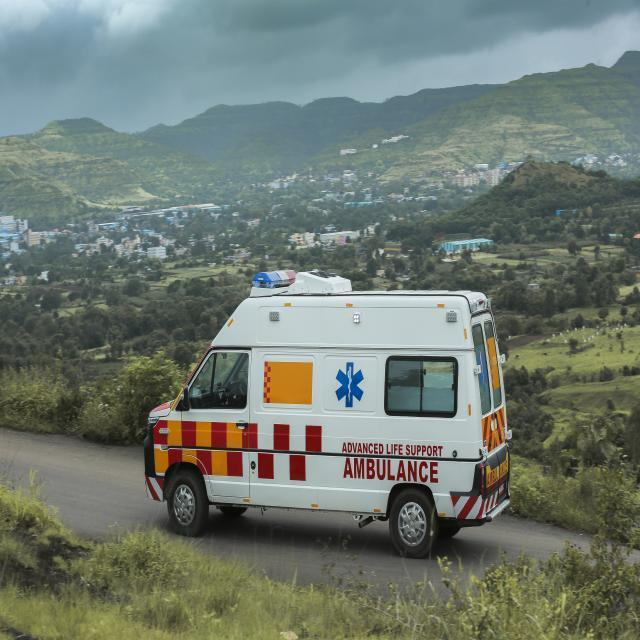emergency-vehicle: (138, 258, 516, 556)
